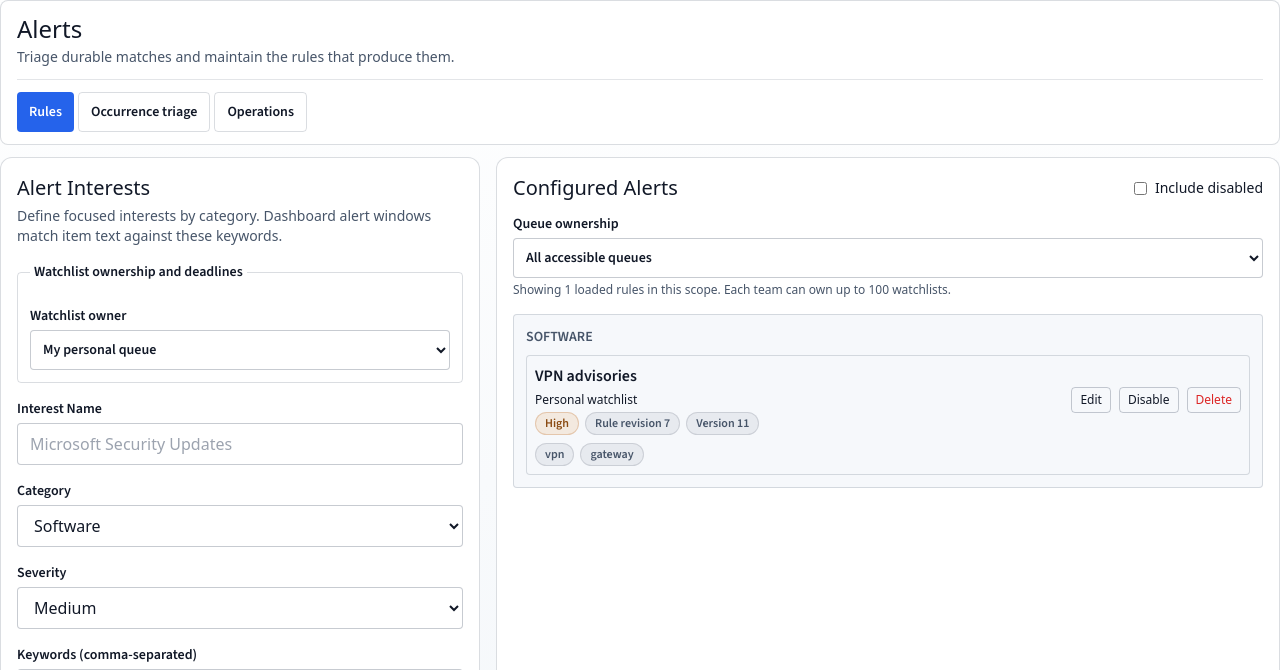
it: AlertsPage DOM workflows › refreshes a stale delete target from all rules when another client disables it
Click the button with aria-label "Delete alert rule VPN advisories" at (1214, 400), box left=1186, top=386, right=1241, bottom=412
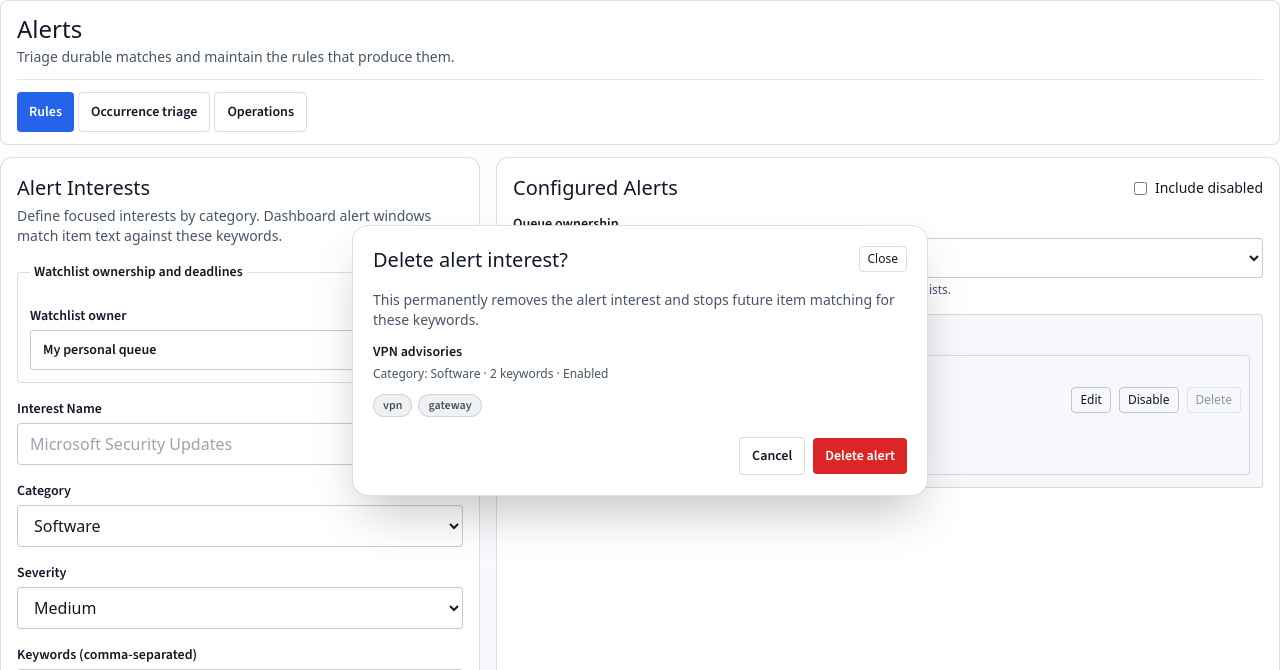
Click the button "Delete alert" at (860, 456), box left=813, top=438, right=907, bottom=474
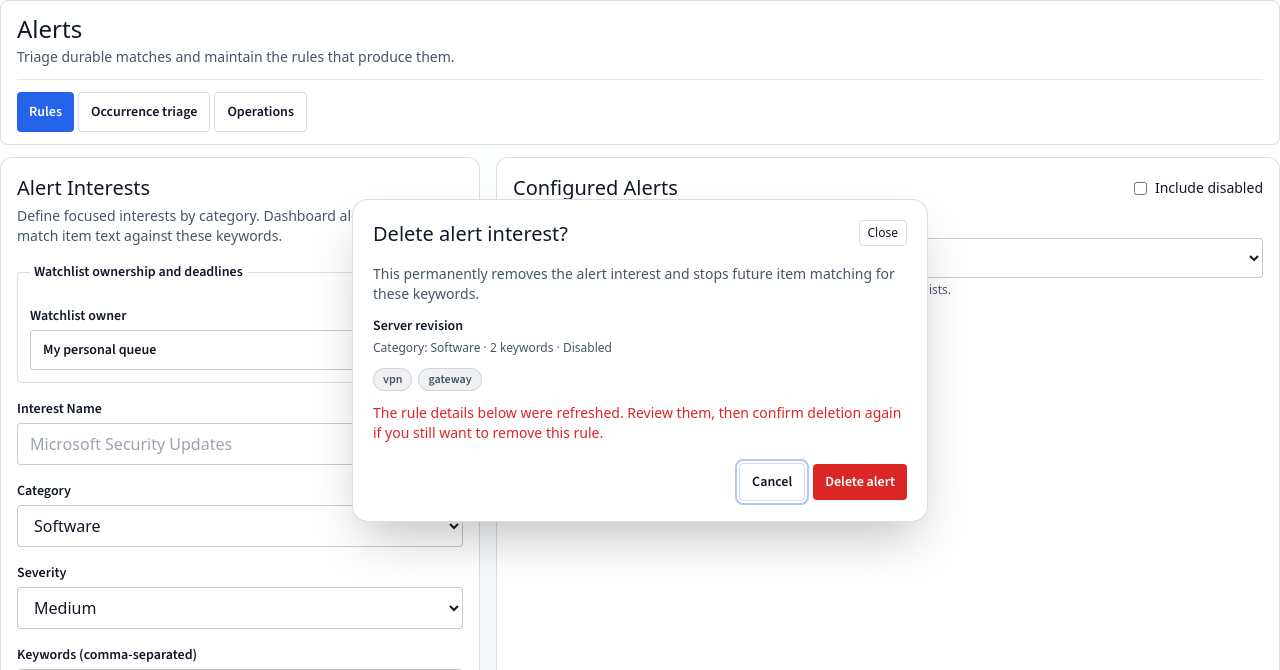
Expected: the button "Delete alert" is enabled, left=813, top=464, right=907, bottom=500
Expected: the text "Server revision" is shown, left=373, top=316, right=463, bottom=336
Expected: the text "Review them, then confirm deletion again" is shown, left=373, top=402, right=901, bottom=442
